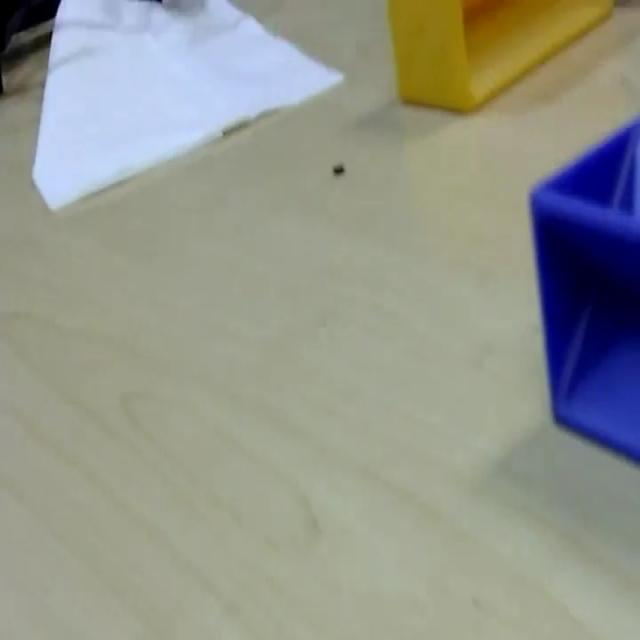blue_block: (526, 112, 638, 463)
yellow_block: (386, 0, 614, 112)
